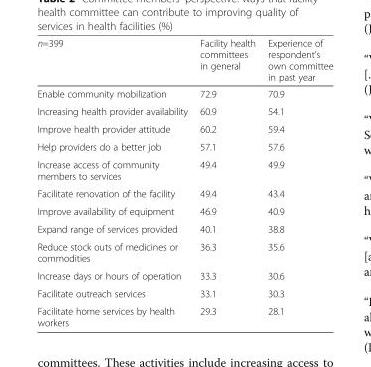table: (36, 36, 332, 327)
table column: (36, 36, 193, 327), (261, 36, 332, 327), (193, 36, 261, 327)
table column header: (36, 36, 332, 84)
table row: (36, 36, 332, 84), (36, 155, 332, 184), (36, 237, 332, 266), (36, 301, 332, 327), (36, 84, 332, 102), (36, 119, 332, 137), (36, 137, 332, 155), (36, 184, 332, 202), (36, 219, 332, 237), (36, 266, 332, 284), (36, 102, 332, 119), (36, 202, 332, 219), (36, 284, 332, 301)
